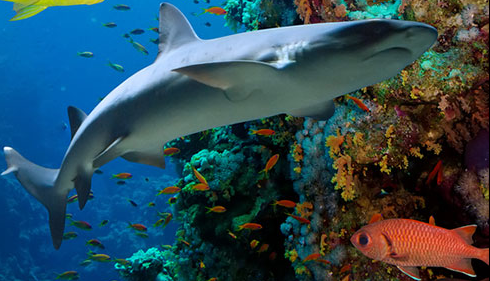fishSmall: (349, 216, 489, 279)
shark: (1, 2, 439, 249)
